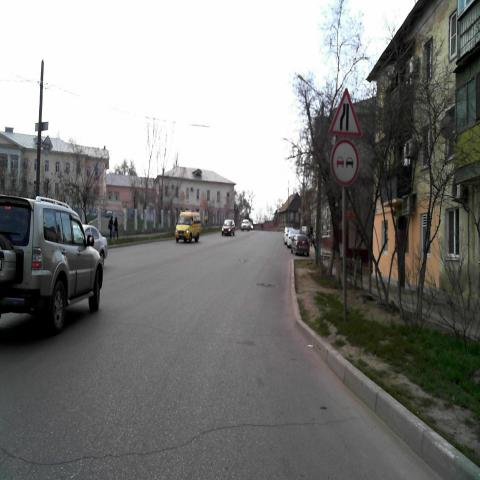1_20_3: (329, 91, 363, 140)
3_20: (330, 139, 358, 185)
